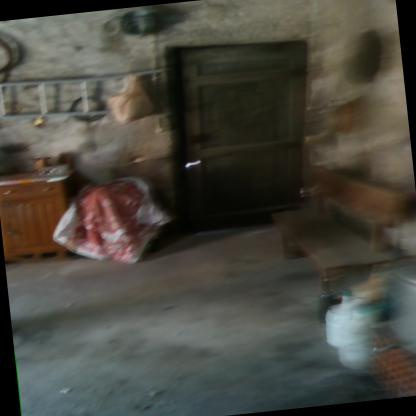closed: (150, 18, 336, 228)
